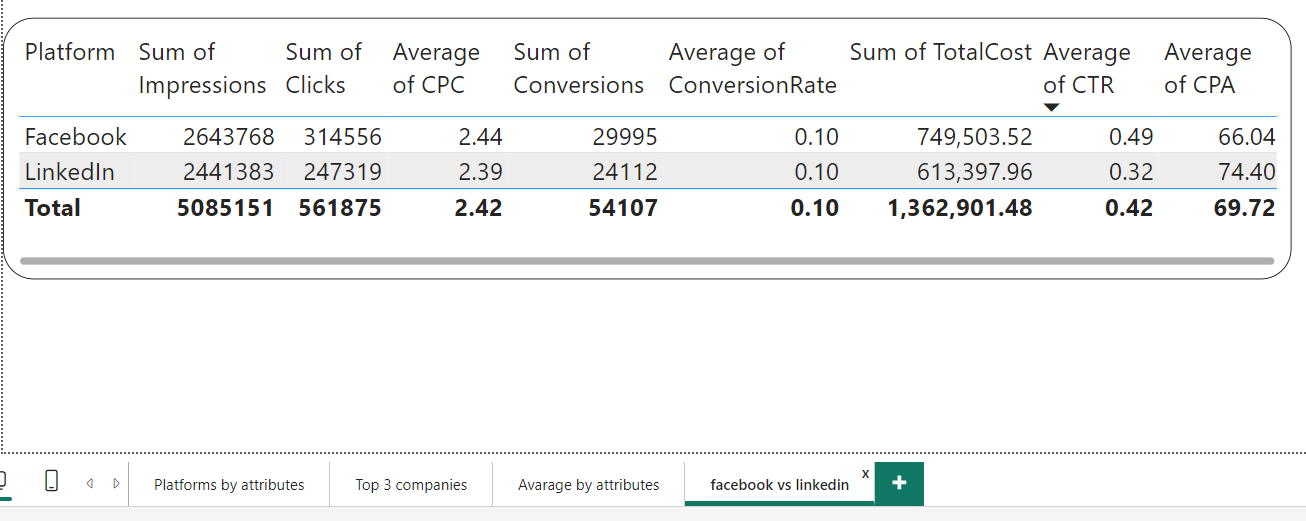

What the dashboard file says about the page in this screenshot:
{"tool":"powerbi","page":{"name":"facebook vs linkedin","canvas":[1280,720],"ordinal":3},"visuals":[{"type":"tableEx","fields":{"Values":["digital_marketing_campaigns.Platform","Sum(digital_marketing_campaigns.Impressions)","Sum(digital_marketing_campaigns.Clicks)","Avg(digital_marketing_campaigns.CPC)","Sum(digital_marketing_campaigns.Conversions)","Avg(digital_marketing_campaigns.ConversionRate)","Sum(digital_marketing_campaigns.TotalCost)","Avg(digital_marketing_campaigns.CTR)","Avg(digital_marketing_campaigns.CPA)"]},"box":[0,293.3,1265,256.4],"z":0}]}

Visuals, with their boxes on the page's 1280x720 design canvas (x1, y1, x2, y2). These are canvas units, not pixel positions in the 1306x521 screenshot, which may show the page scaled, cropped or inside an application window:
tableEx - digital_marketing_campaigns.Platform x Sum(digital_marketing_campaigns.Impressions): crop(0, 293, 1265, 550)
